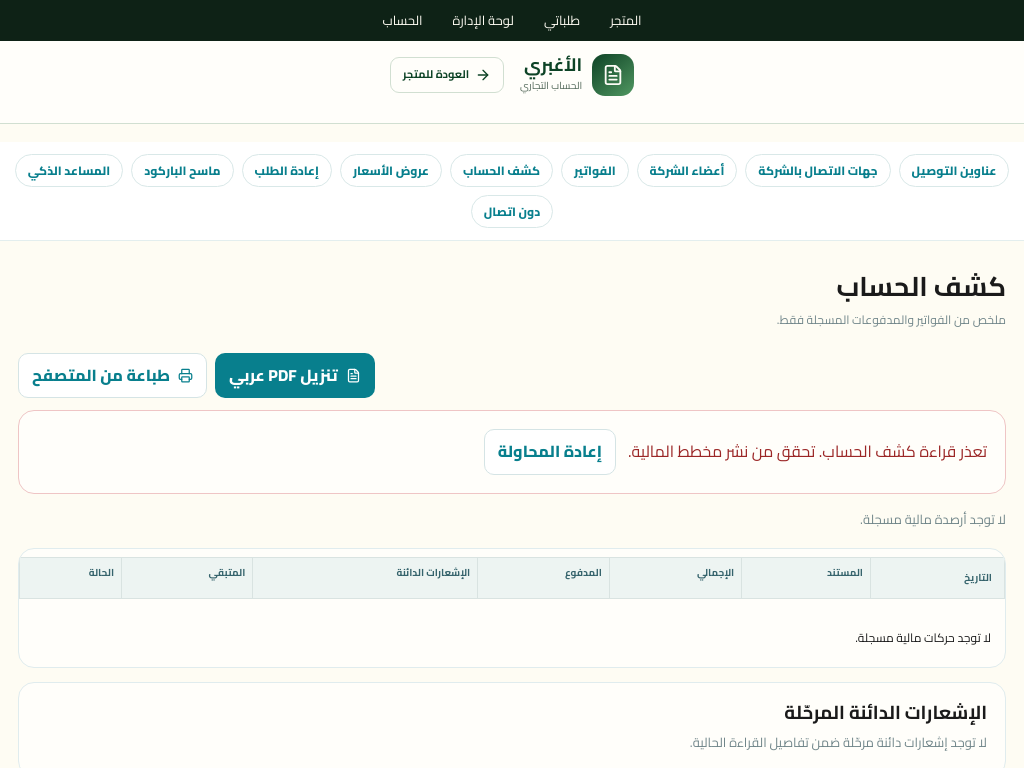
Test: customer statement real route acceptance › exposes an RPC failure, then recovers only after the actual retry succeeds
Expected: the message "تعذر قراءة كشف الحساب. تحقق من نشر مخطط المالية. إعادة المحاولة" is shown, [18, 410, 1006, 494]
Click the button "إعادة المحاولة" at (550, 452), box [484, 429, 616, 475]
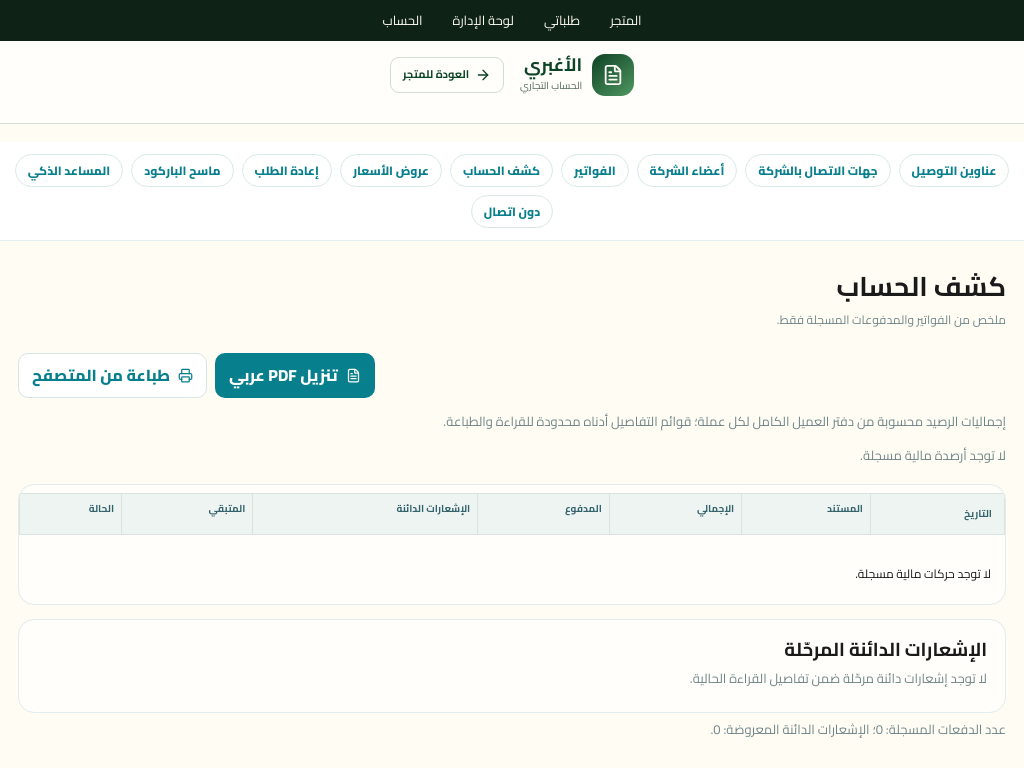
Expected: the text "لا توجد أرصدة مالية مسجلة." is shown, [860, 443, 1006, 467]
Result: the message "تعذر قراءة كشف الحساب. تحقق من نشر مخطط المالية. إعادة المحاولة" is gone
